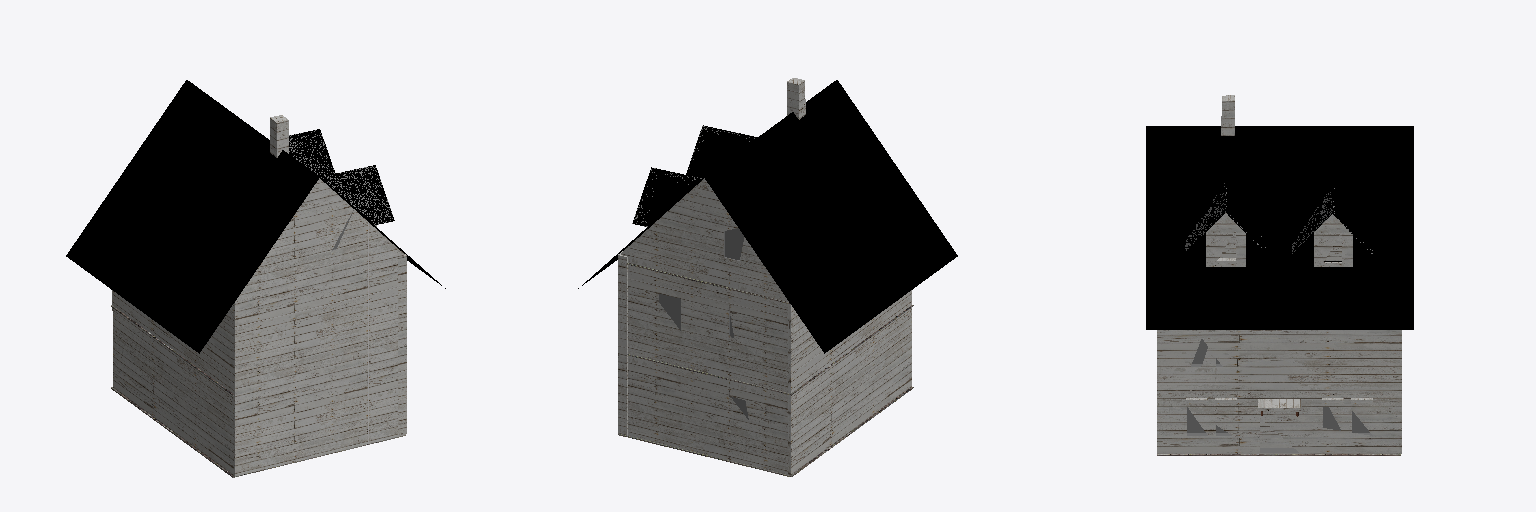
3 views of the same model, side by side, from view 1: azimuth 30°, elevation 25°; view 2: azimuth 150°, elevation 25°; view 3: azimuth 270°, elevation 25° (orthographic).
Visible parts, largest first — view 1: pasted__polySurface69; view 2: pasted__polySurface69; view 3: pasted__polySurface69.
Part boxes in pixels (bbox=[...]): pasted__polySurface69: bbox=[66, 80, 445, 477]; pasted__polySurface69: bbox=[578, 78, 957, 476]; pasted__polySurface69: bbox=[1146, 95, 1413, 455].
Bounding box in the file's own units: 34.75 × 42.21 × 32.59.
Materials: 9 (3 with a texture image).